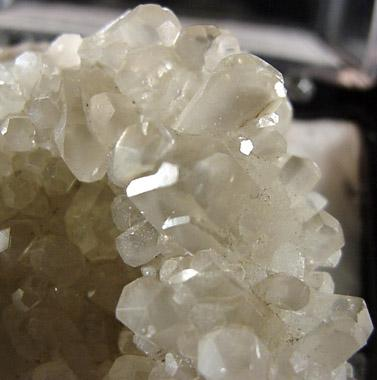calcite: (0, 4, 373, 380)
